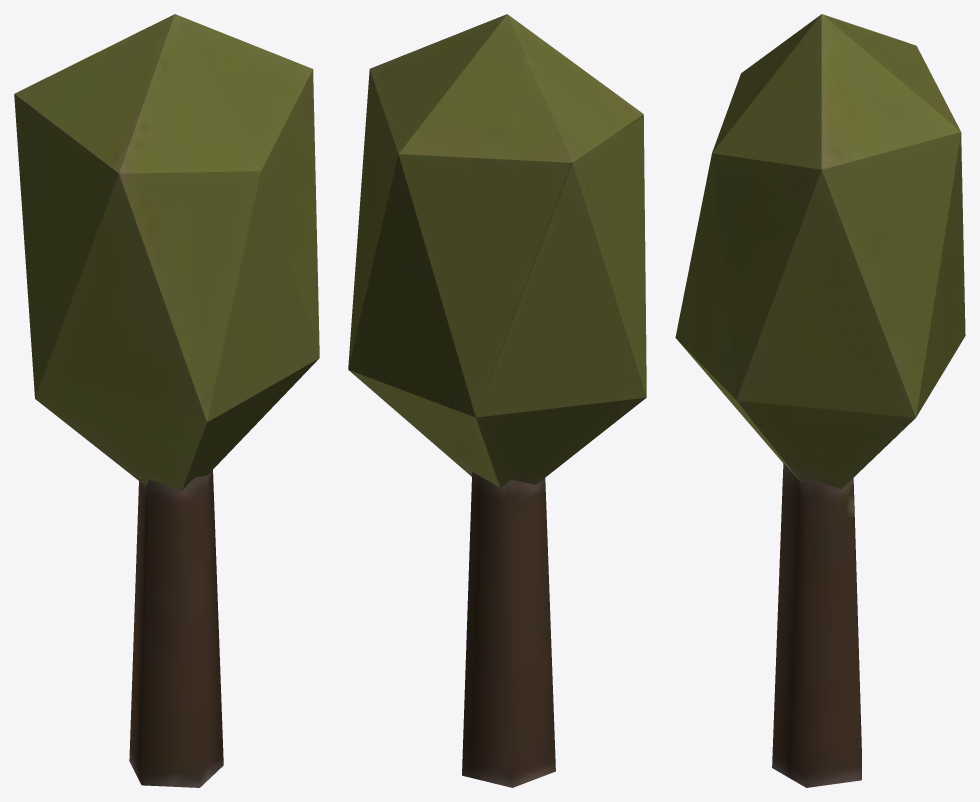
The model's file is tree_5.glb.
The picture shows the model from 3 angles, left to right: view 1: azimuth 30°, elevation 25°; view 2: azimuth 150°, elevation 25°; view 3: azimuth 270°, elevation 25°; orthographic projection.
Visible parts, largest first — view 1: te_prop_tree_5; view 2: te_prop_tree_5; view 3: te_prop_tree_5.
Part boxes in pixels (x1,y1,x2,y2): te_prop_tree_5: (14,14,319,787); te_prop_tree_5: (348,14,646,787); te_prop_tree_5: (675,14,965,787).
Bounding box in the file's own units: 0.1545 × 0.4012 × 0.1399.
1 material, 1 textured.
